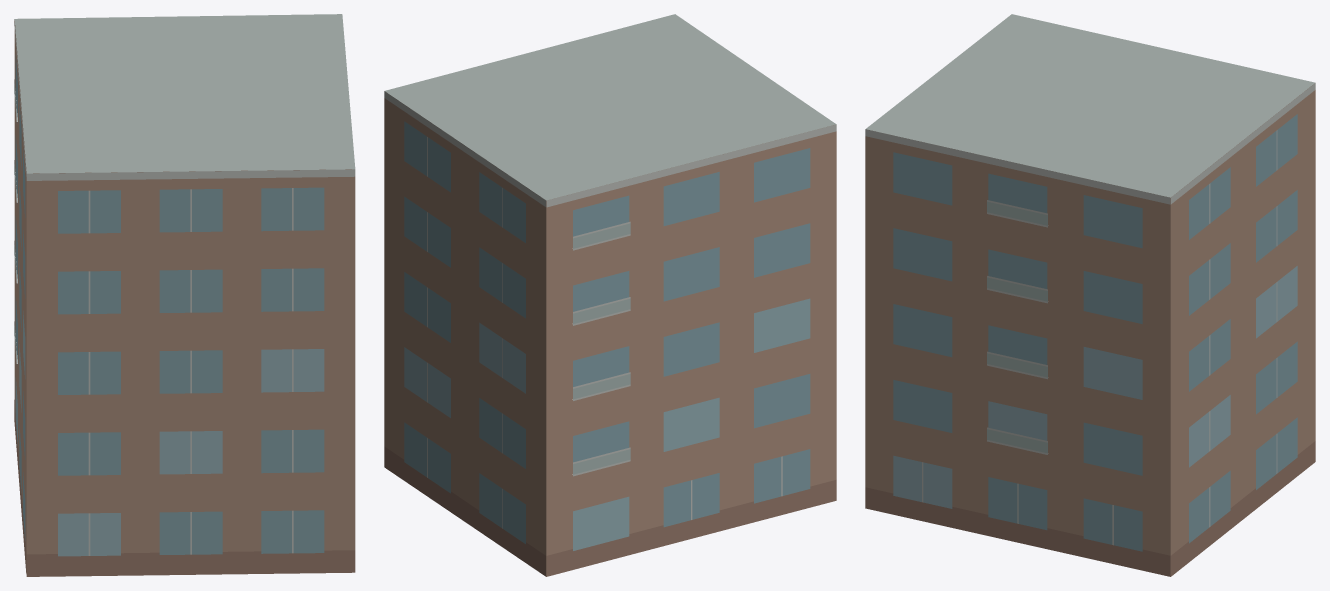
The model's file is survey-upis-33031483.glb.
The picture shows the model from 3 angles, left to right: view 1: azimuth 30°, elevation 25°; view 2: azimuth 150°, elevation 25°; view 3: azimuth 270°, elevation 25°; orthographic projection. The views are drawn at different scales.
Visible parts, largest first — view 1: survey-upis-33031483.tmp; view 2: survey-upis-33031483.tmp; view 3: survey-upis-33031483.tmp.
Boxes of the visible parts, x1,y1,x2,y2 form: survey-upis-33031483.tmp: (14,14,355,576); survey-upis-33031483.tmp: (384,14,836,576); survey-upis-33031483.tmp: (865,14,1315,576).
Bounding box in the file's own units: 13.67 × 13.15 × 14.16.
